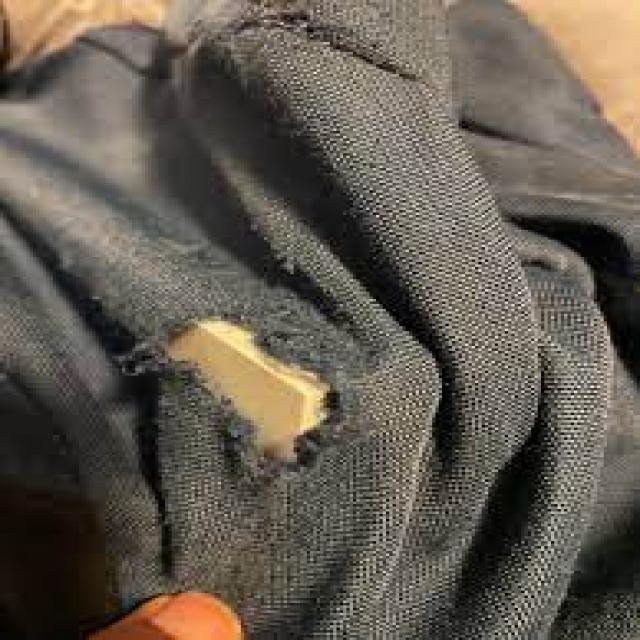Damage-bag: (122, 291, 357, 476), (185, 0, 345, 67)
